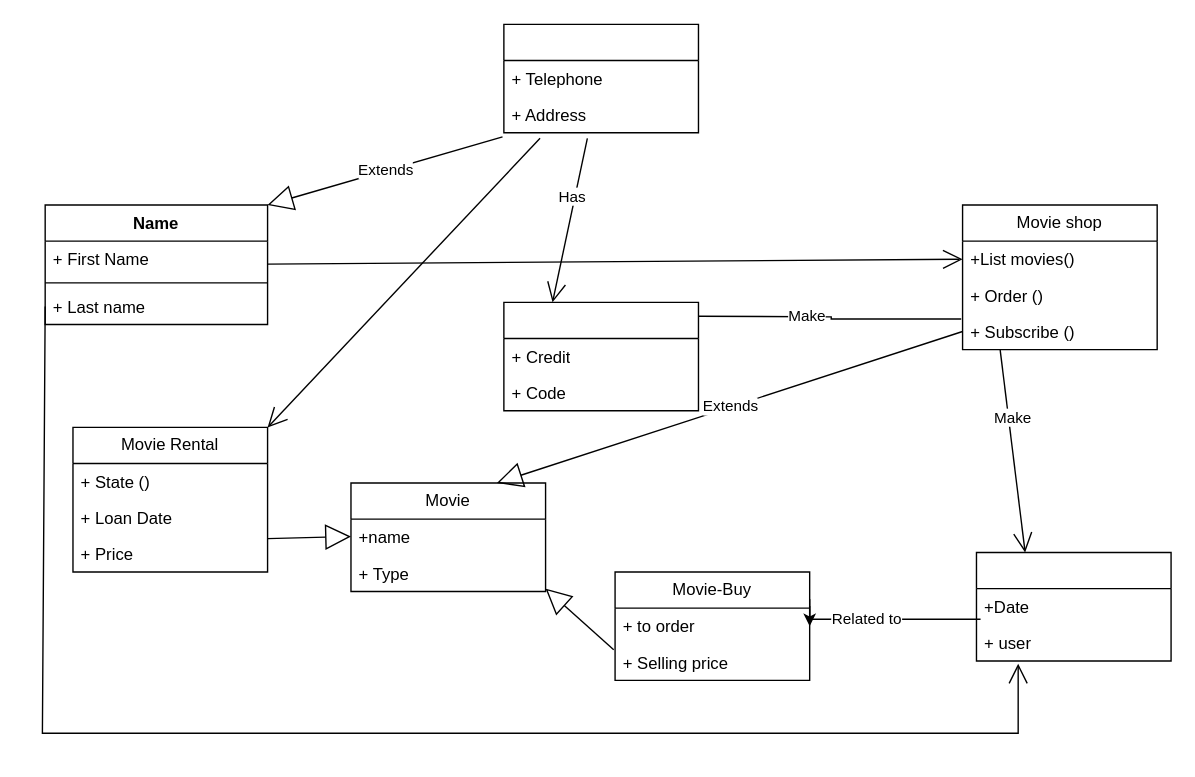
This 1195x777 diagram has some shape labels left out. The shapes that lost their labels are listed below. From the top down, each one's box as (x1, y1, x2, y2) in pixels, then its label:
(502, 23, 698, 133): Subscriber
(502, 301, 698, 411): Card
(975, 551, 1171, 661): order
